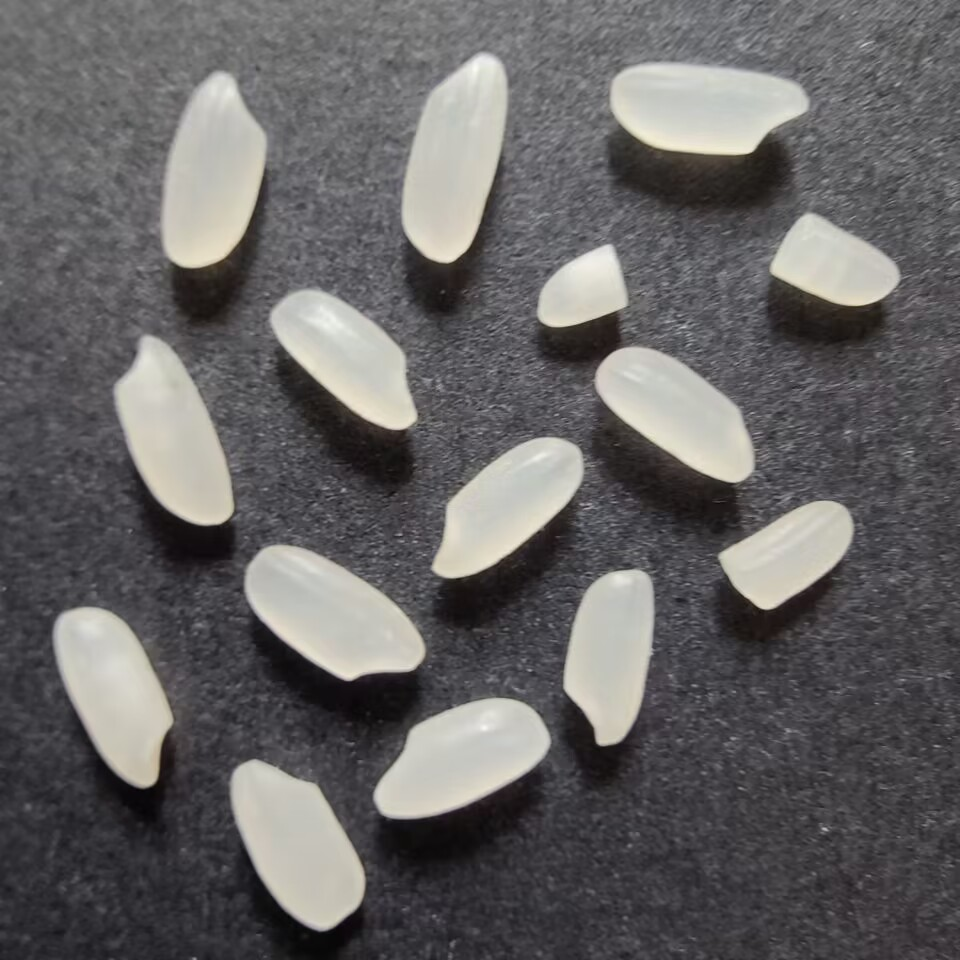broken: (714, 497, 857, 617), (764, 206, 908, 308), (530, 238, 632, 337)
rice: (239, 542, 429, 686), (220, 756, 368, 938), (109, 331, 238, 533), (397, 46, 512, 268), (49, 604, 176, 801), (590, 344, 760, 489), (265, 287, 423, 442), (366, 696, 554, 825), (422, 433, 585, 581), (157, 67, 270, 276), (606, 56, 815, 160), (560, 563, 661, 749)
